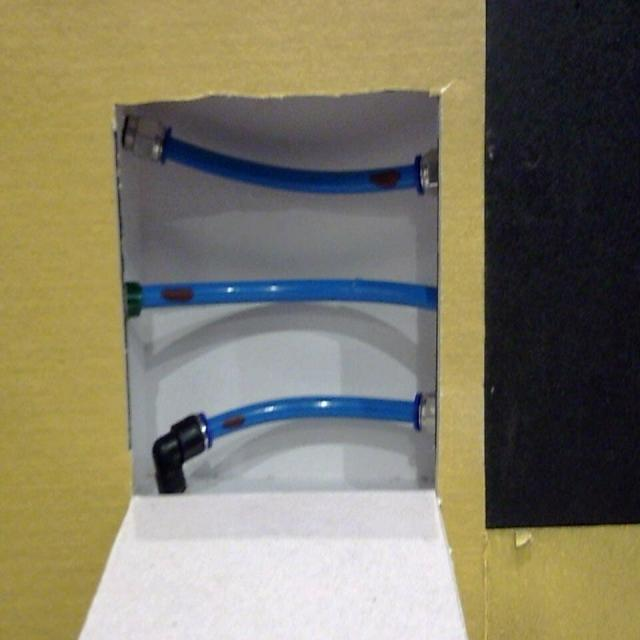hose_damage: (157, 282, 197, 307), (366, 166, 403, 192), (221, 413, 247, 432)
